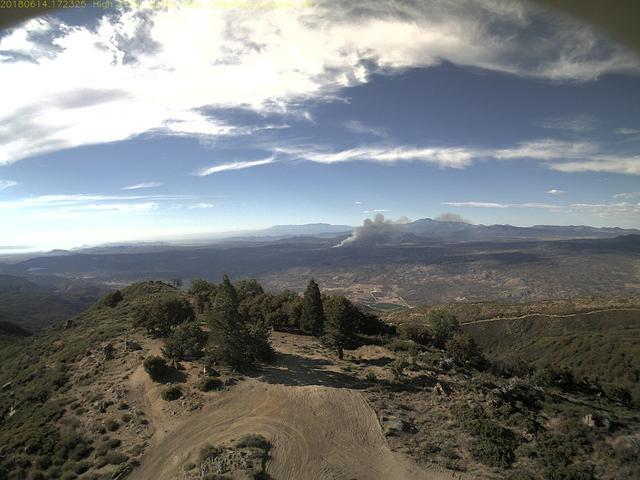smoke: (330, 211, 434, 248)
